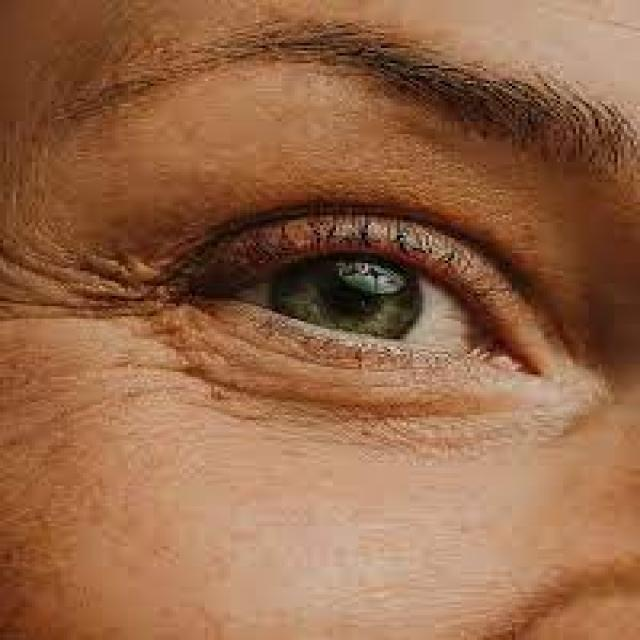Wrinkles: (8, 221, 481, 443)
